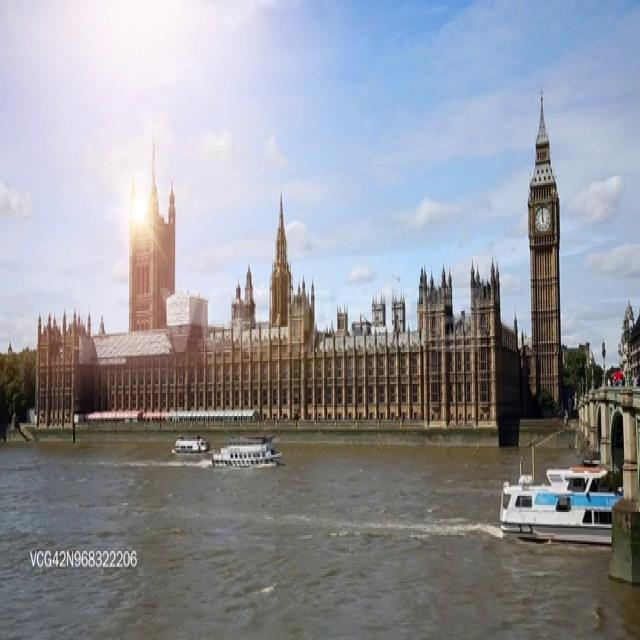passenger ship: (496, 453, 630, 543), (211, 432, 276, 467), (169, 429, 209, 458)
